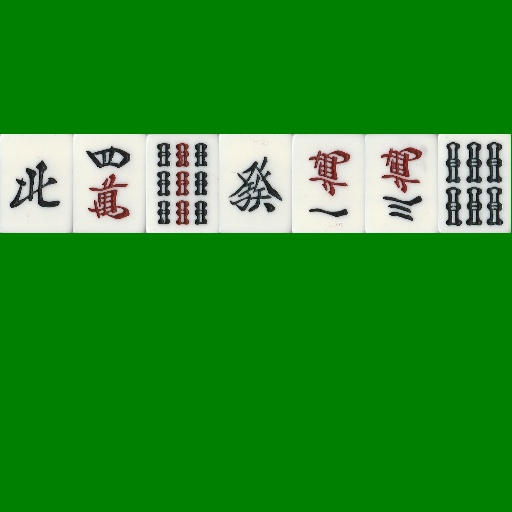1m: (292, 134, 365, 233)
3m: (365, 134, 438, 233)
4m: (73, 134, 146, 233)
6s: (438, 134, 511, 233)
9s: (146, 134, 219, 233)
hatsu: (219, 134, 292, 233)
north: (0, 134, 73, 233)
